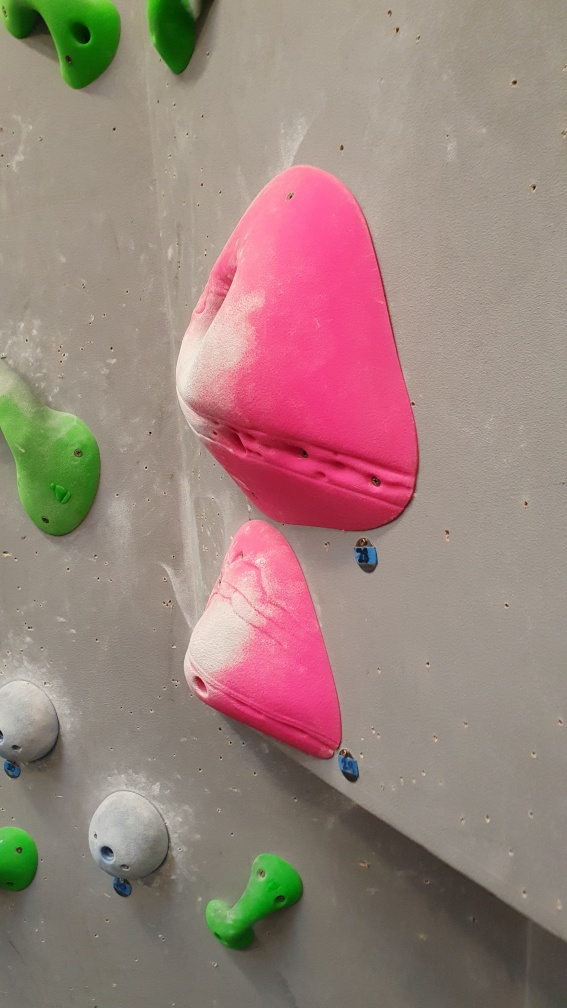Hand Start: (336, 744, 366, 788), (353, 534, 383, 577), (109, 873, 131, 905), (2, 752, 20, 778)
Pocket: (174, 161, 420, 528)
Sloper: (87, 790, 177, 881), (1, 674, 63, 764)
